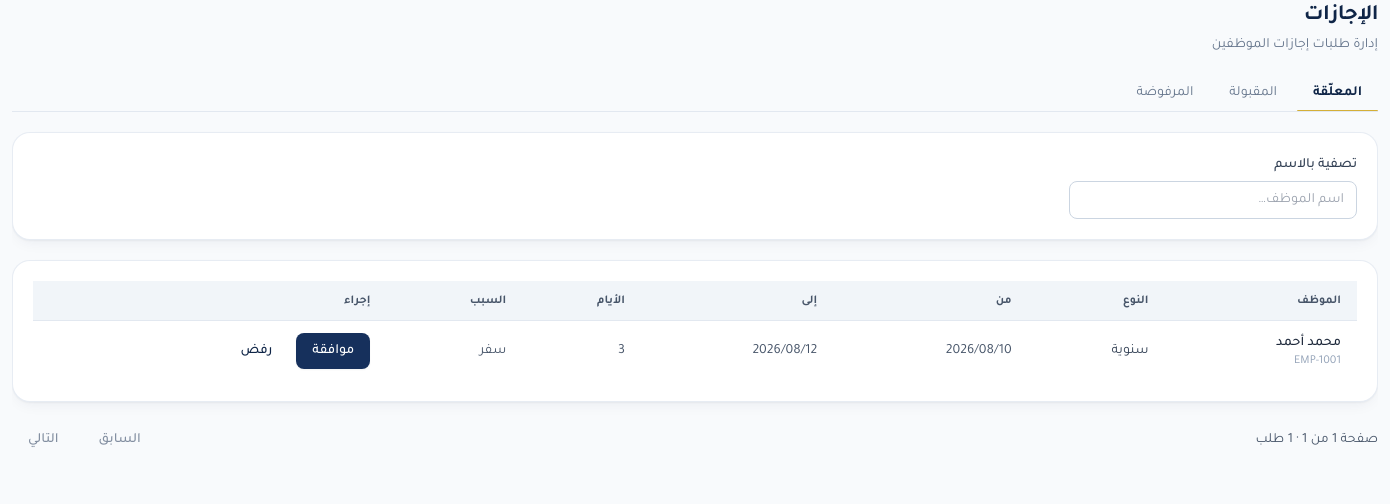
it: HrLeavePage › يصفّي بالاسم على الصفحة المحمّلة
The width and height of the screenshot is (1390, 504).
Expected: the text "محمد أحمد" is shown, x1=1276 y1=336 x2=1341 y2=350
In the field labelled "تصفية بالاسم": (1213, 200) x1=1069 y1=181 x2=1357 y2=219, type "خالد"
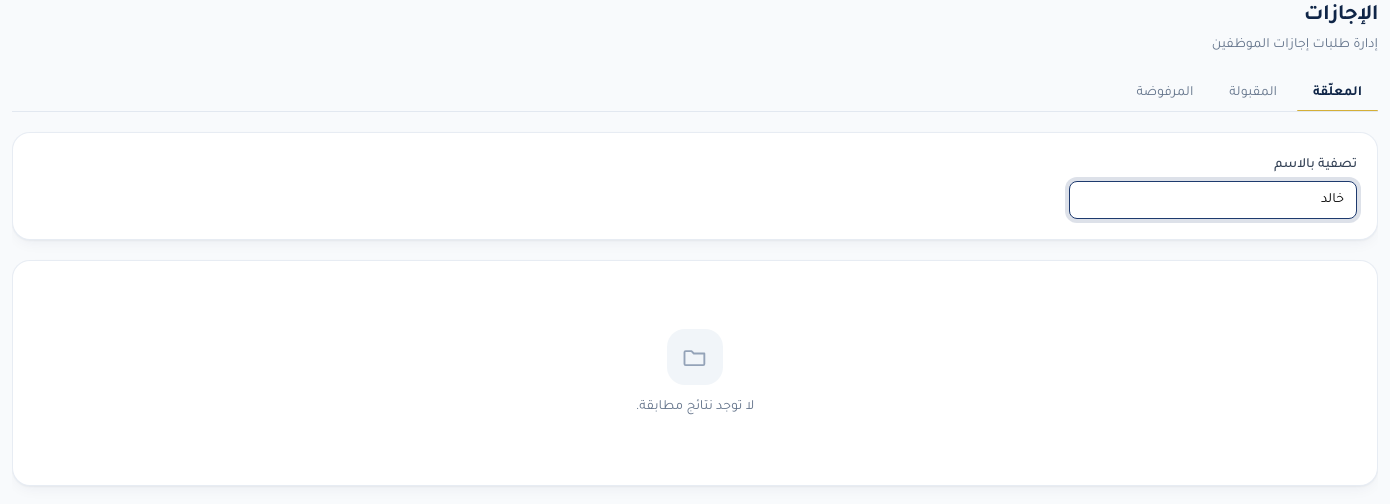
Expected: the text "لا توجد نتائج مطابقة." is shown, x1=636 y1=397 x2=754 y2=417
